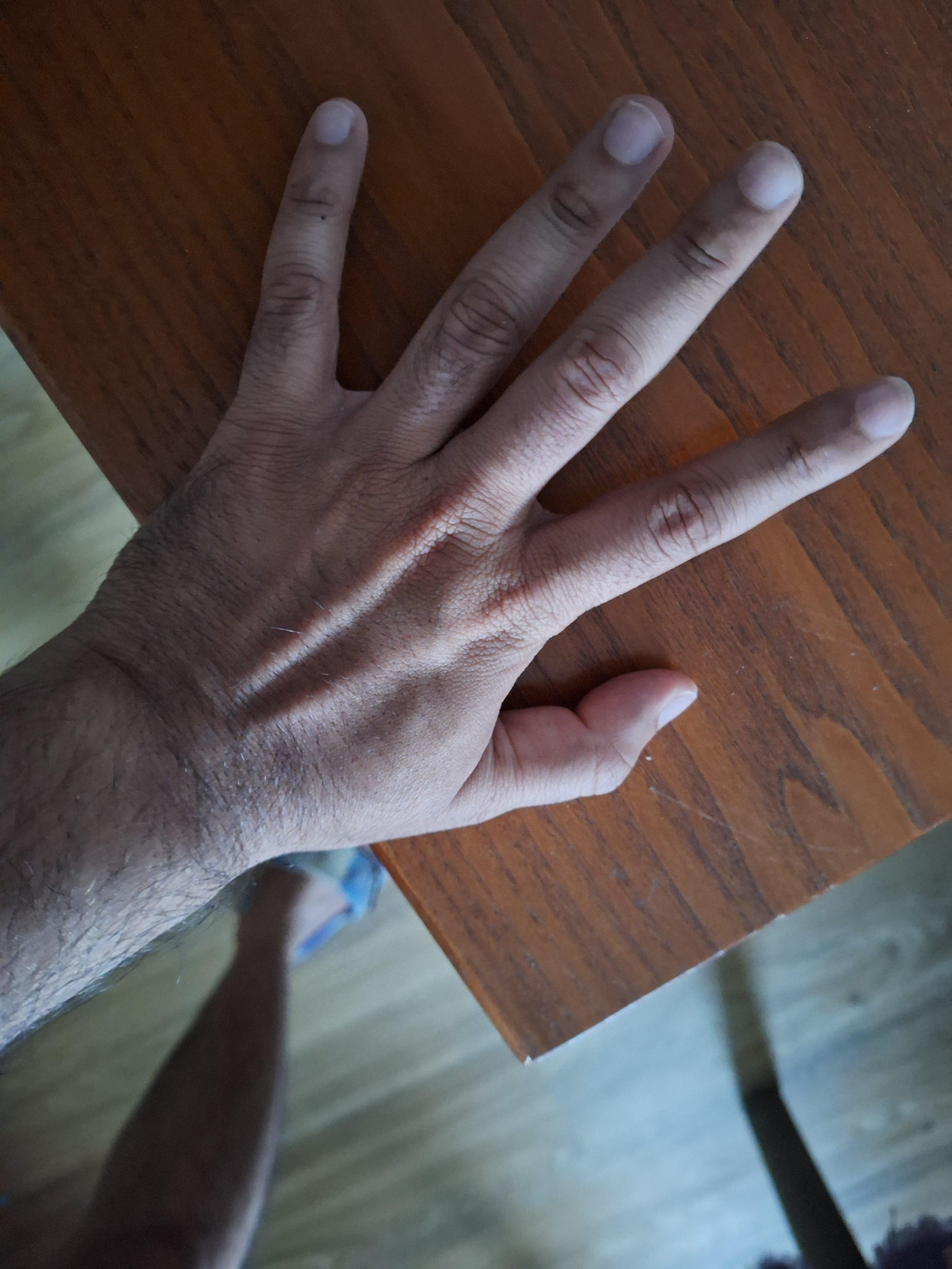Fingernail: (739, 142, 802, 211), (604, 100, 664, 165), (856, 377, 916, 441), (315, 102, 354, 146), (658, 691, 698, 730)
